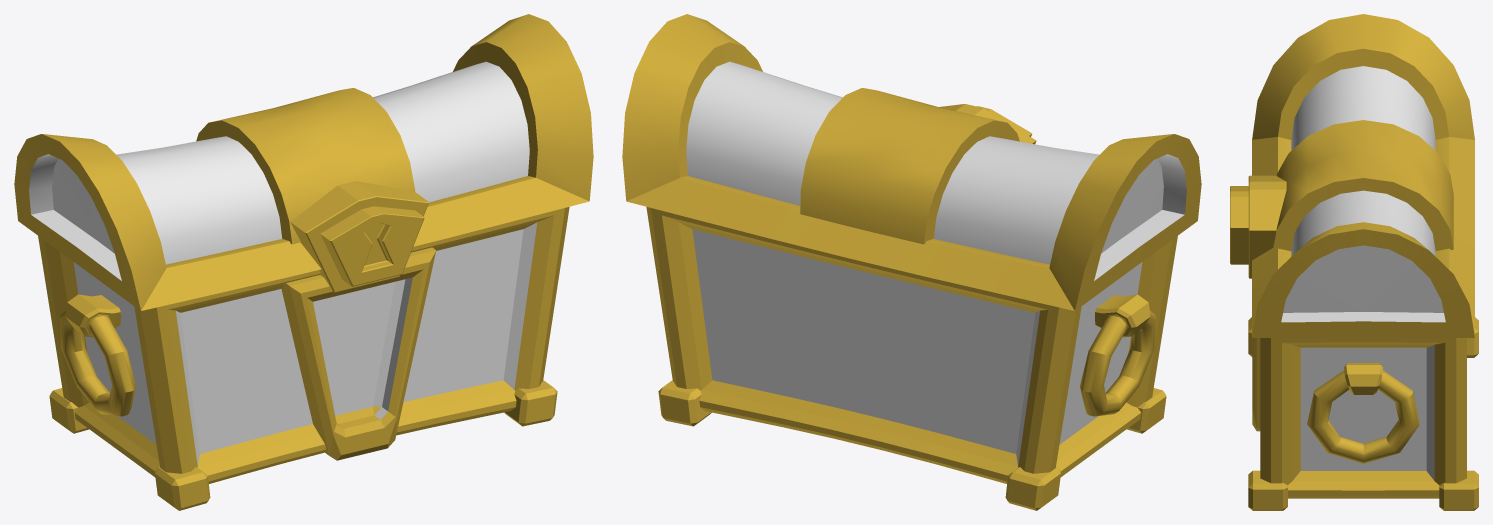
File: Chest.fbx
3 views of the same model, side by side, from view 1: azimuth 30°, elevation 25°; view 2: azimuth 150°, elevation 25°; view 3: azimuth 270°, elevation 25° (orthographic). The views are drawn at different scales.
Visible parts, largest first — view 1: Cylinder, Cube, Cube.002, Cube.003, Torus, Cube.001; view 2: Cylinder, Cube, Torus, Cube.001, Cube.003; view 3: Cylinder, Cube, Torus, Cube.003, Cube.001, Cube.002.
Part boxes in pixels (left/top/right/bottom): Cylinder: left=14, top=14, right=593, bottom=310; Cube: left=38, top=207, right=569, bottom=483; Cube.002: left=281, top=247, right=436, bottom=460; Cube.003: left=290, top=181, right=428, bottom=292; Torus: left=59, top=294, right=135, bottom=416; Cube.001: left=49, top=380, right=557, bottom=510; Cylinder: left=622, top=14, right=1201, bottom=310; Cube: left=646, top=207, right=1177, bottom=483; Torus: left=1080, top=294, right=1156, bottom=416; Cube.001: left=658, top=380, right=1166, bottom=510; Cube.003: left=939, top=104, right=1036, bottom=144; Cylinder: left=1252, top=14, right=1474, bottom=337; Cube: left=1260, top=338, right=1466, bottom=498; Torus: left=1307, top=363, right=1419, bottom=463; Cube.003: left=1230, top=175, right=1286, bottom=278; Cube.001: left=1248, top=317, right=1478, bottom=510; Cube.002: left=1252, top=338, right=1260, bottom=431.
Bounding box in the file's own units: 495 × 329 × 241.
